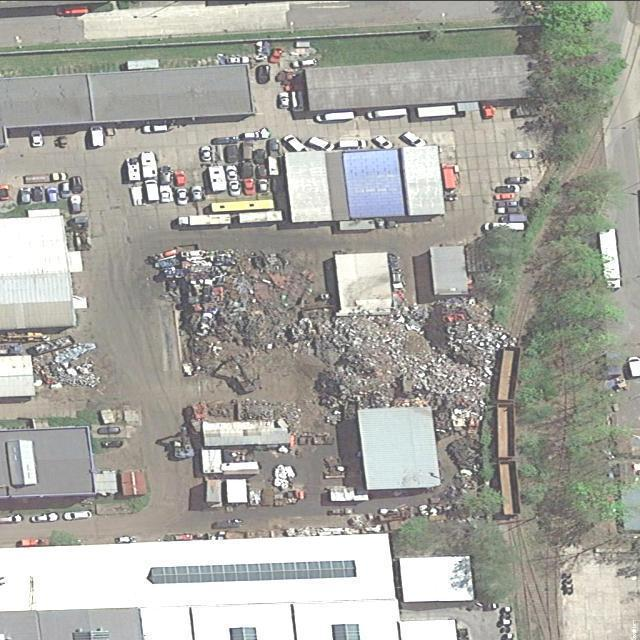dump_site: (149, 243, 318, 374), (316, 305, 500, 409), (28, 331, 105, 389), (432, 406, 481, 437)
